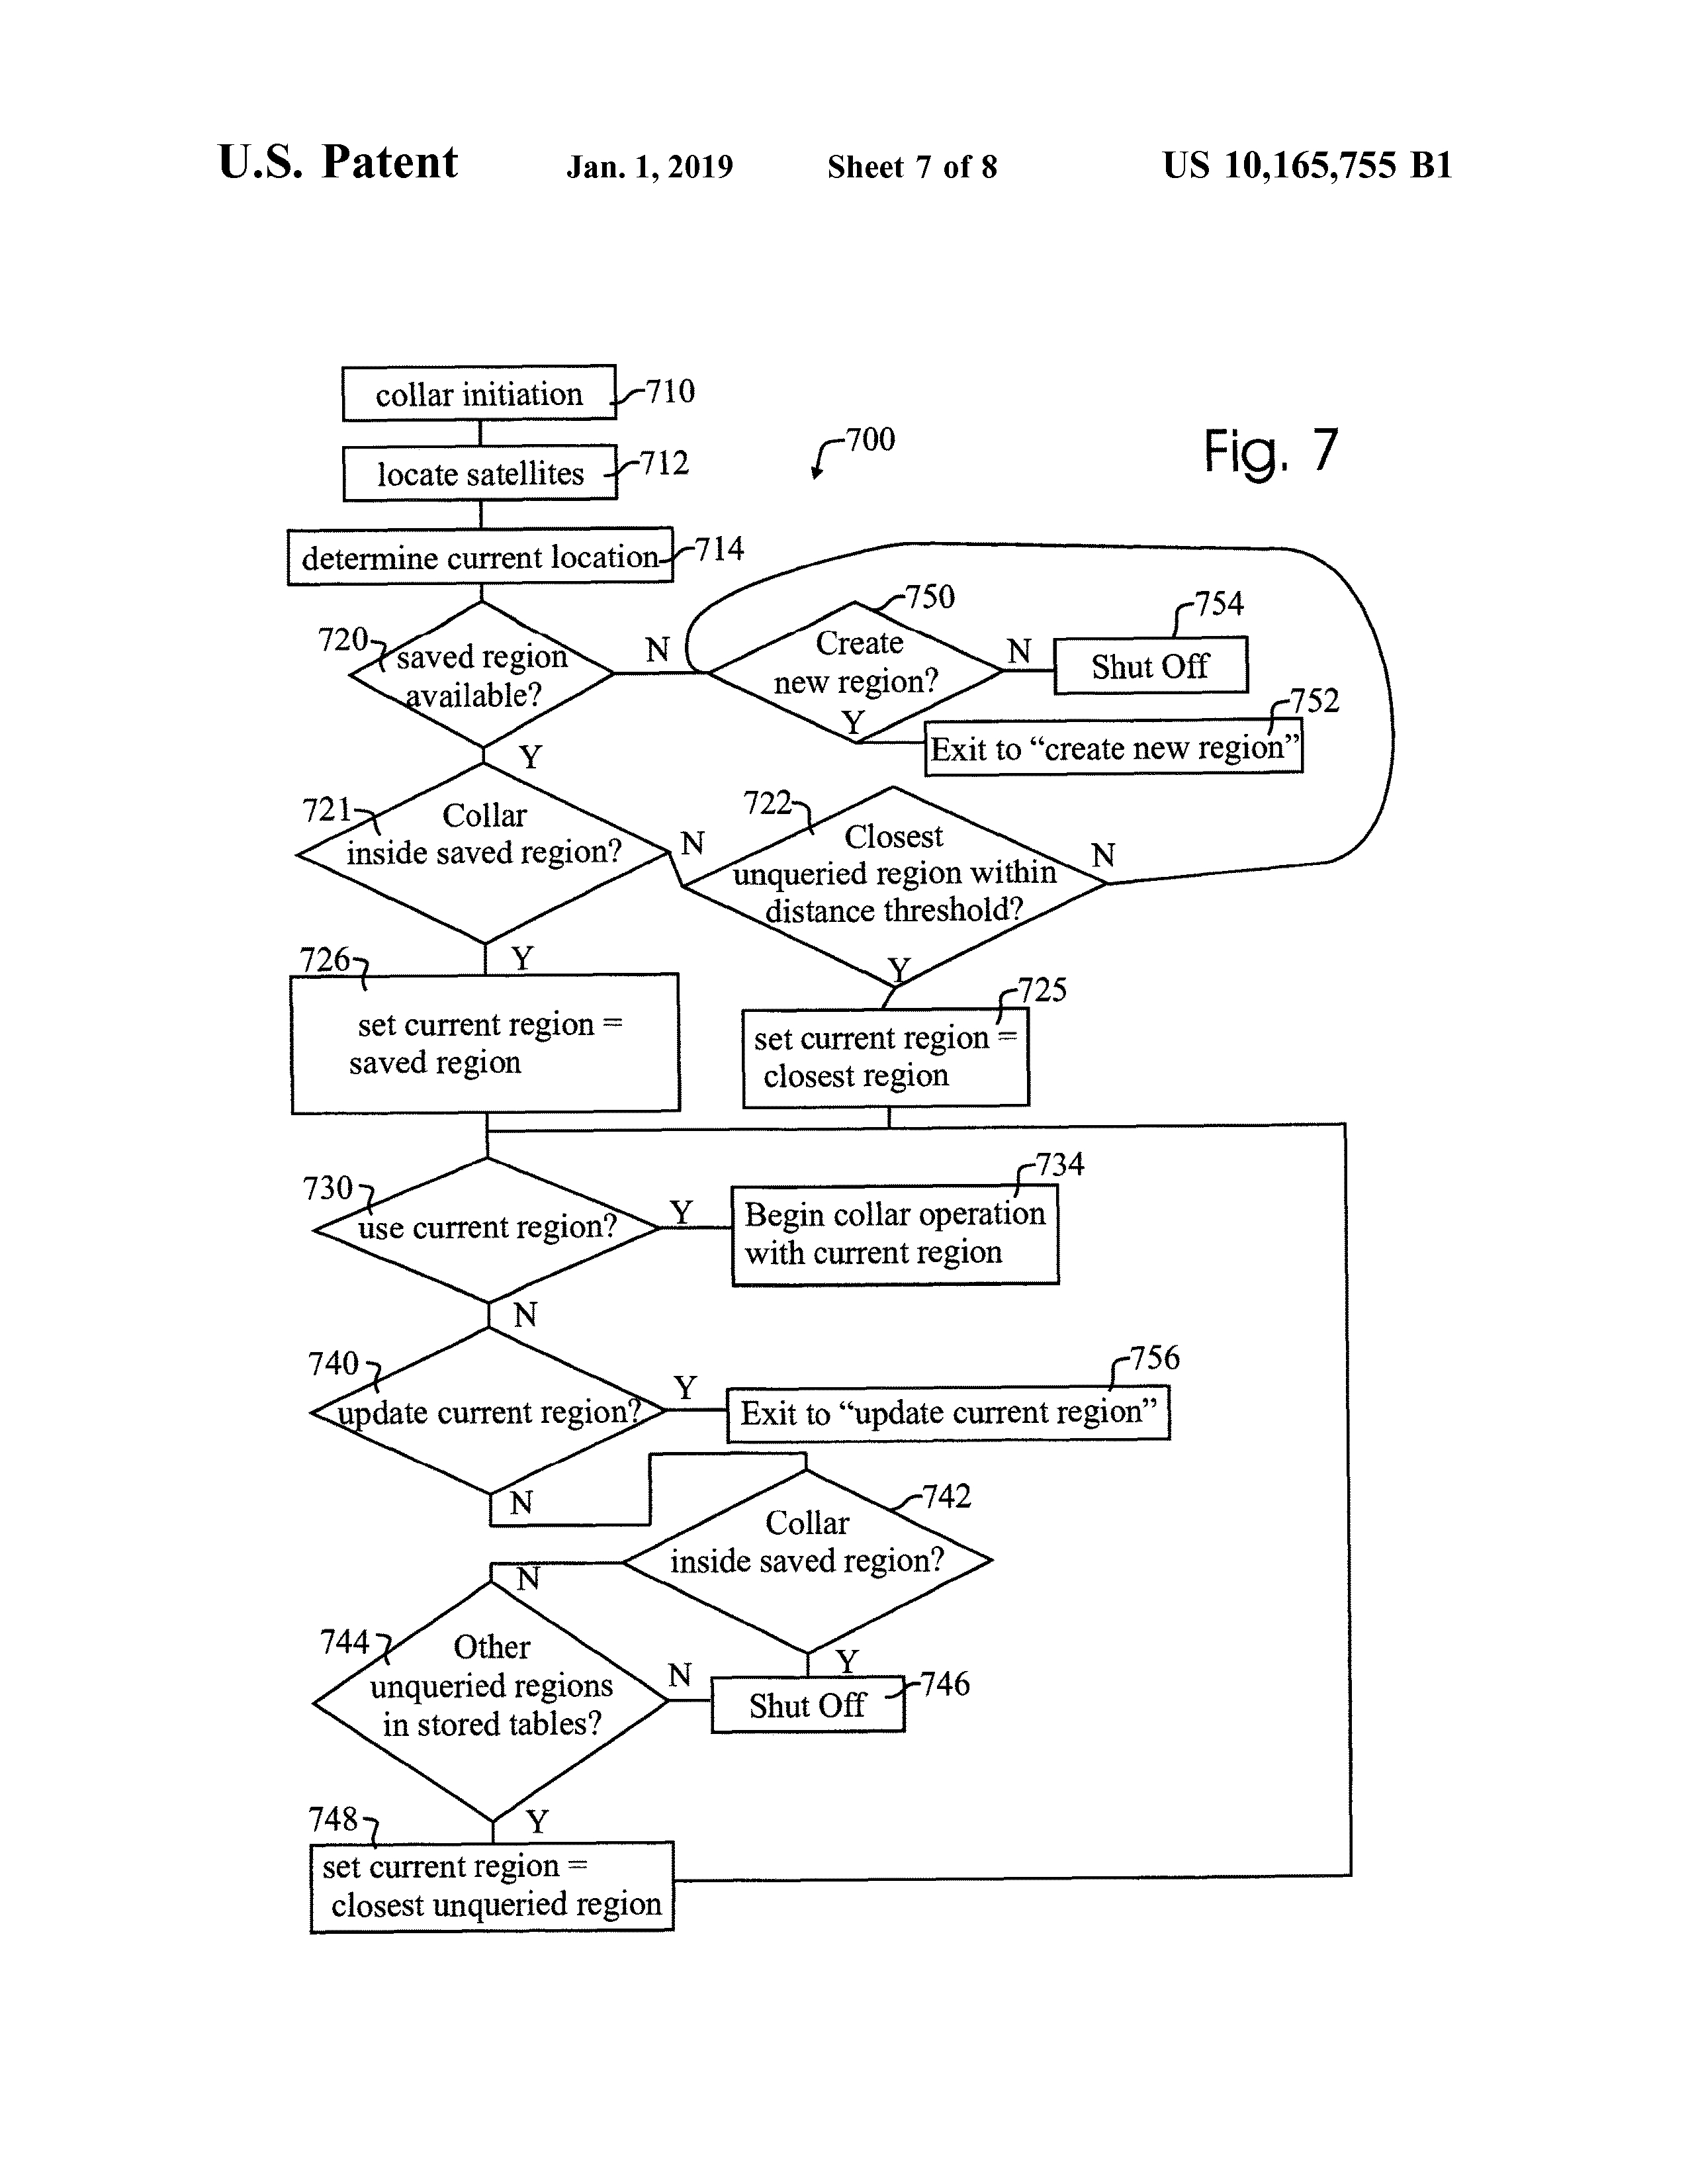patent image: (231, 275, 1400, 2002)
